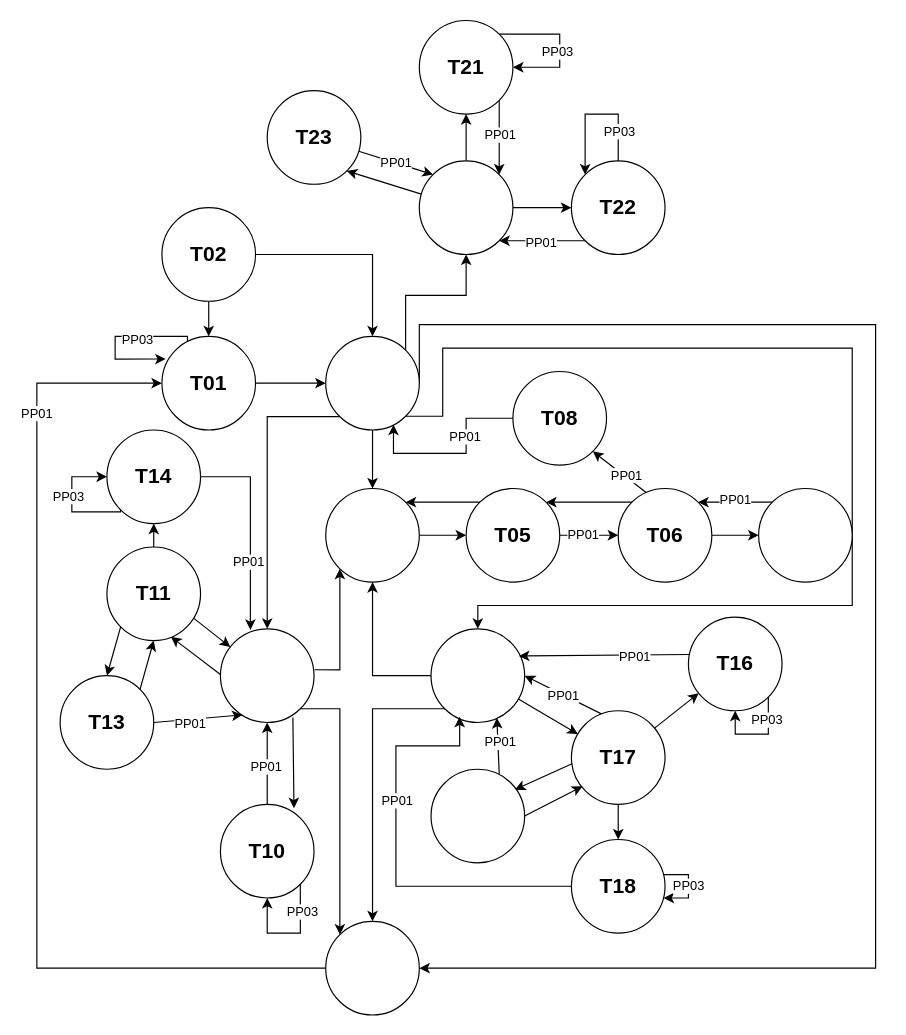
Some shapes in this 906 by 1035 pixel diagram are drawn without their labels. The centre of each missing label's shape, as x and y in pixels:
"T03" goes at point (372, 382).
"T04" goes at point (372, 534).
"T07" goes at point (804, 534).
"T09" goes at point (266, 675).
"T15" goes at point (477, 675).
"T19" goes at point (477, 815).
"T20" goes at point (465, 207).
"T24" goes at point (372, 967).
